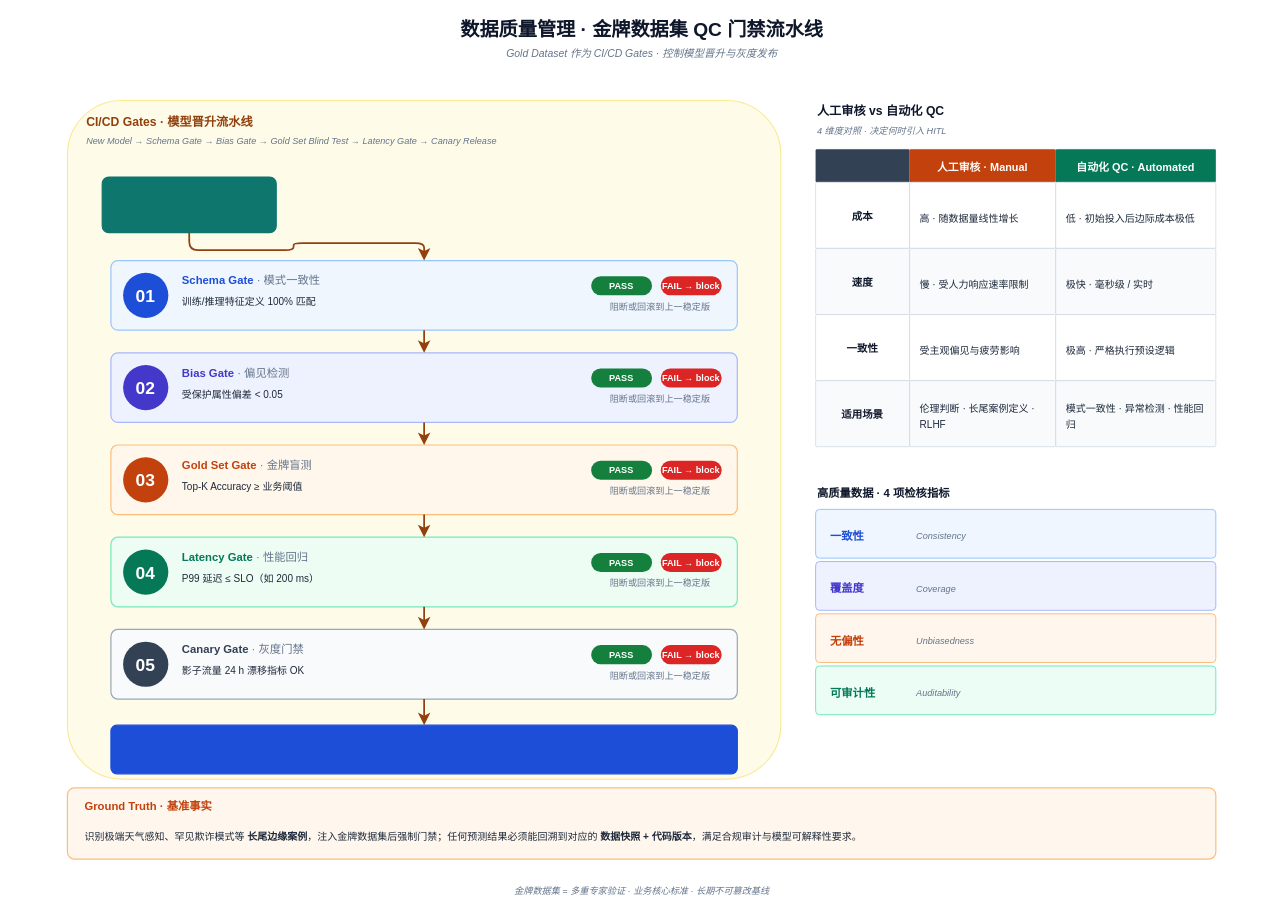
Image size: 1282x915. Some labels were removed from this diagram. Each missing label, with the centre of its shape:
"New Model Version v_next 提交进入晋升通道" belongs at point (188, 204).
"Production Promotion · 进入生产 + 持续监控" belongs at point (423, 749).
"维度" belongs at point (862, 165).
